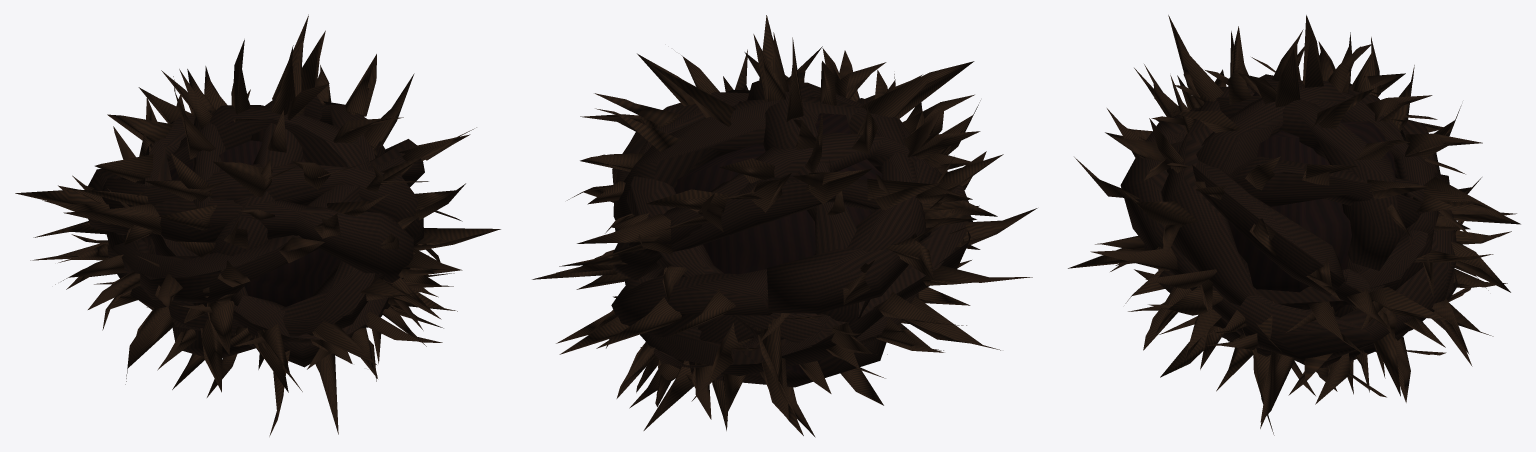
Rendered from Thorn_A_BriarHeart_Detail2.fbx.
3 renders of one model, left to right at view 1: azimuth 30°, elevation 25°; view 2: azimuth 150°, elevation 25°; view 3: azimuth 270°, elevation 25°, orthographic. The views are drawn at different scales.
Parts seen in each view (by area): view 1: ThornSurface; view 2: ThornSurface; view 3: ThornSurface.
Part boxes in pixels (x1,y1,x2,y2): ThornSurface: [15, 14, 500, 436]; ThornSurface: [532, 15, 1037, 437]; ThornSurface: [1068, 15, 1520, 435].
Bounding box in the file's own units: 282 × 242 × 272.
